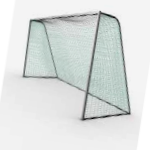goals: (22, 10, 132, 121)
